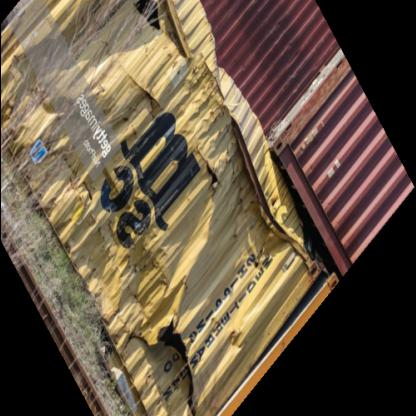Damage: (21, 7, 319, 413)
